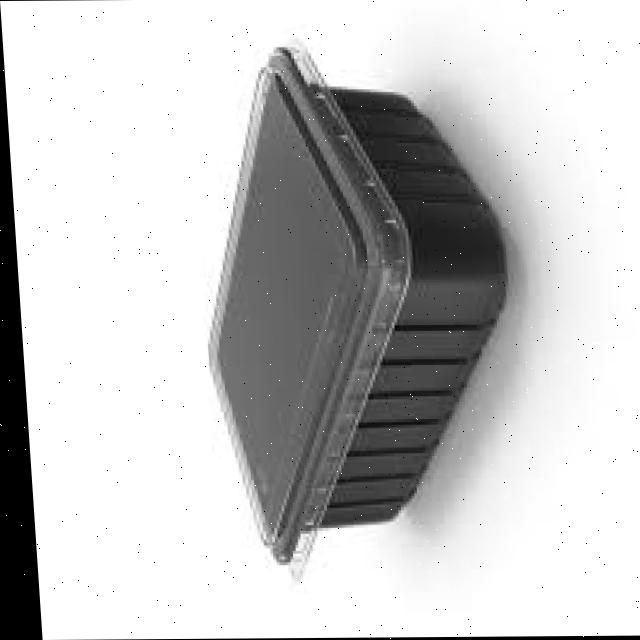disposable: (166, 23, 532, 563)
